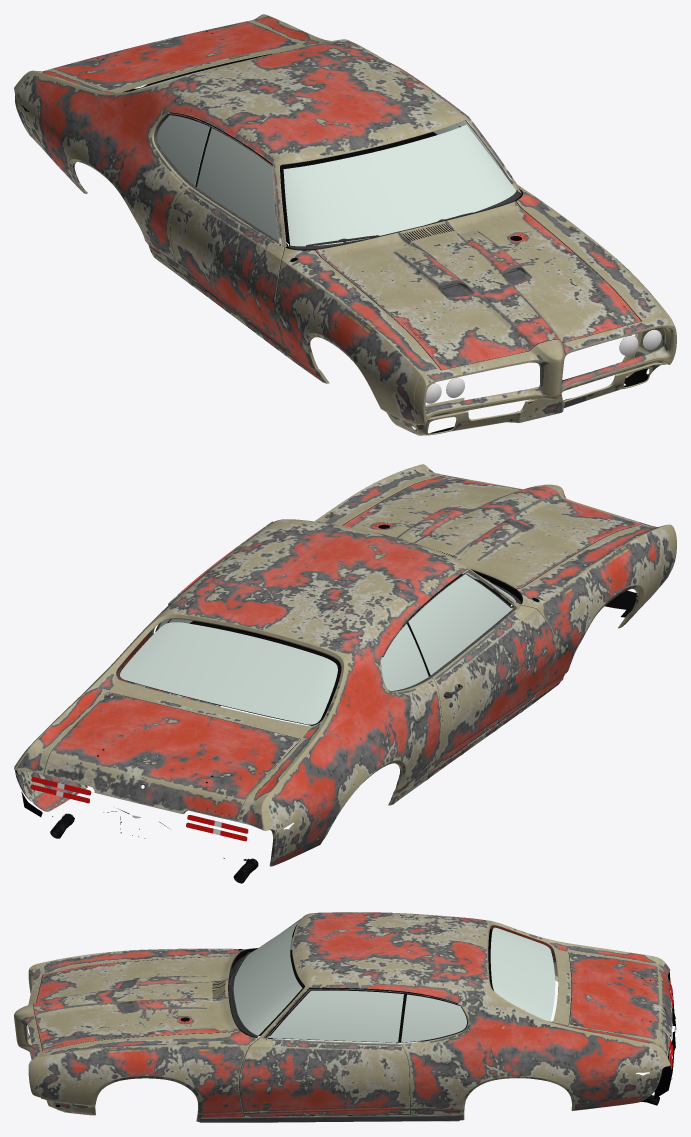
File: Pontiac_GTOTheJudgeClassic_1969_Body0b_lodB.fbx
3 views of the same model, one above another, from view 1: azimuth 30°, elevation 25°; view 2: azimuth 150°, elevation 25°; view 3: azimuth 270°, elevation 25° (orthographic). The views are drawn at different scales.
Visible parts, largest first — view 1: Body0b_Swatch_Geo_lodB, Body0b_WindowTexture_Geo_lodB, Body0b_Base_Geo_lodB; view 2: Body0b_Swatch_Geo_lodB, Body0b_WindowTexture_Geo_lodB, Body0b_Base_Geo_lodB; view 3: Body0b_Swatch_Geo_lodB, Body0b_WindowTexture_Geo_lodB, Body0b_Base_Geo_lodB.
Boxes of the visible parts, x1,y1,x2,y2 form: Body0b_Swatch_Geo_lodB: [14, 14, 676, 435]; Body0b_WindowTexture_Geo_lodB: [134, 62, 661, 403]; Body0b_Base_Geo_lodB: [21, 25, 648, 433]; Body0b_Swatch_Geo_lodB: [14, 464, 676, 883]; Body0b_WindowTexture_Geo_lodB: [30, 569, 515, 841]; Body0b_Base_Geo_lodB: [15, 476, 641, 858]; Body0b_Swatch_Geo_lodB: [14, 912, 672, 1122]; Body0b_WindowTexture_Geo_lodB: [233, 921, 676, 1069]; Body0b_Base_Geo_lodB: [33, 925, 675, 1116].
Size of the model in its own units: 1.95 by 1.16 by 5.07.
